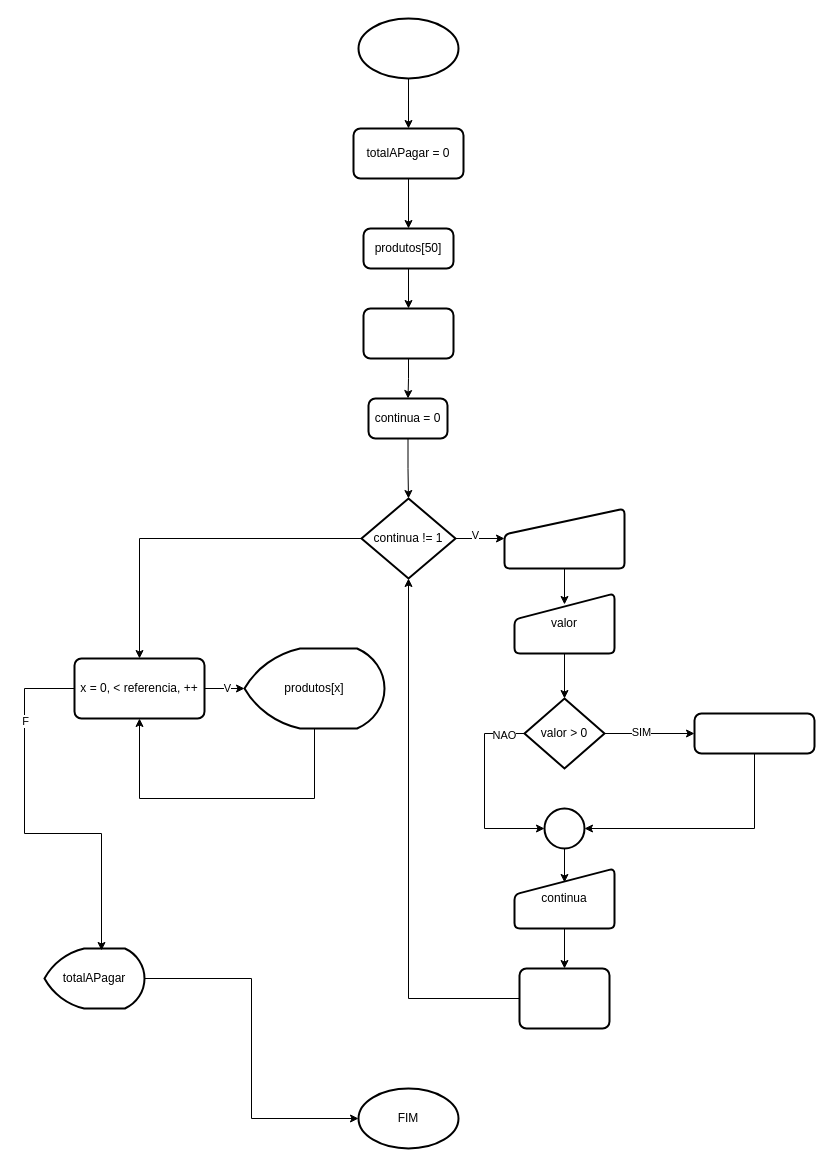
Some shapes in this 833 by 1166 pixel diagram are drawn without their labels. Here are the shapes that lost their labels. From the top down, the centre of each, then its label:
At pixel 408 48: "INICIO".
At pixel 408 333: "referencia = 0".
At pixel 564 538: "produtos[referencia]".
At pixel 754 733: "totalAPagar += valor".
At pixel 564 998: "Incrementa referencia".
